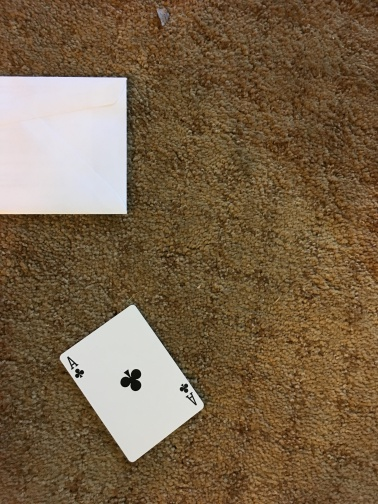ace: (56, 303, 206, 464)
